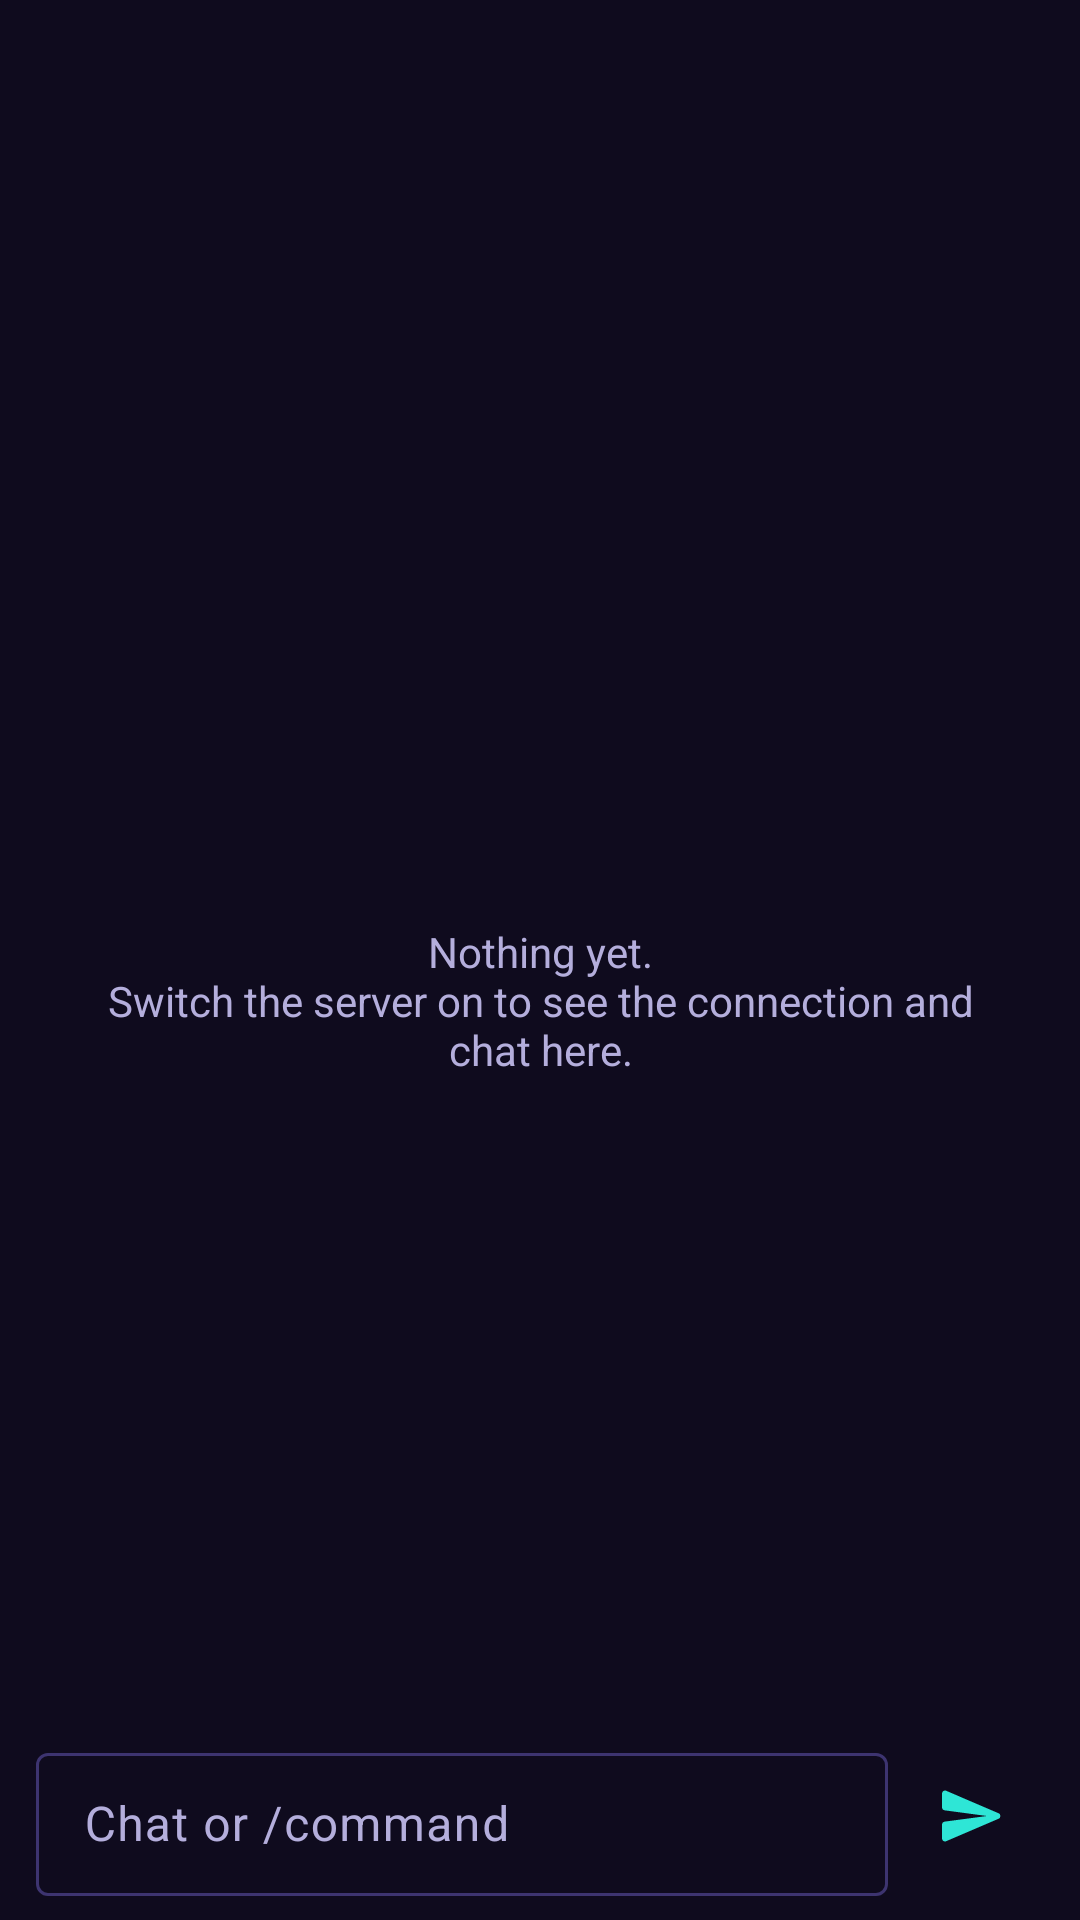

Named icons in this screenshot (1080px×1920px) and their bounding boxes, (x1, y1, x2, y2):
Send: (942, 1790, 1001, 1842)
